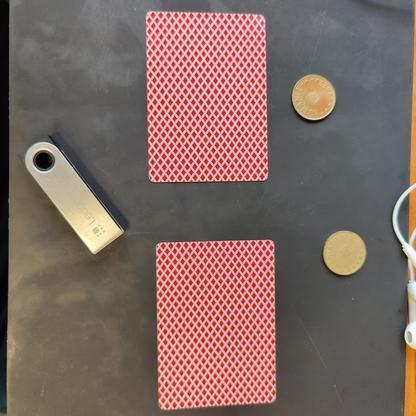card: (137, 231, 291, 414), (130, 6, 276, 188)
